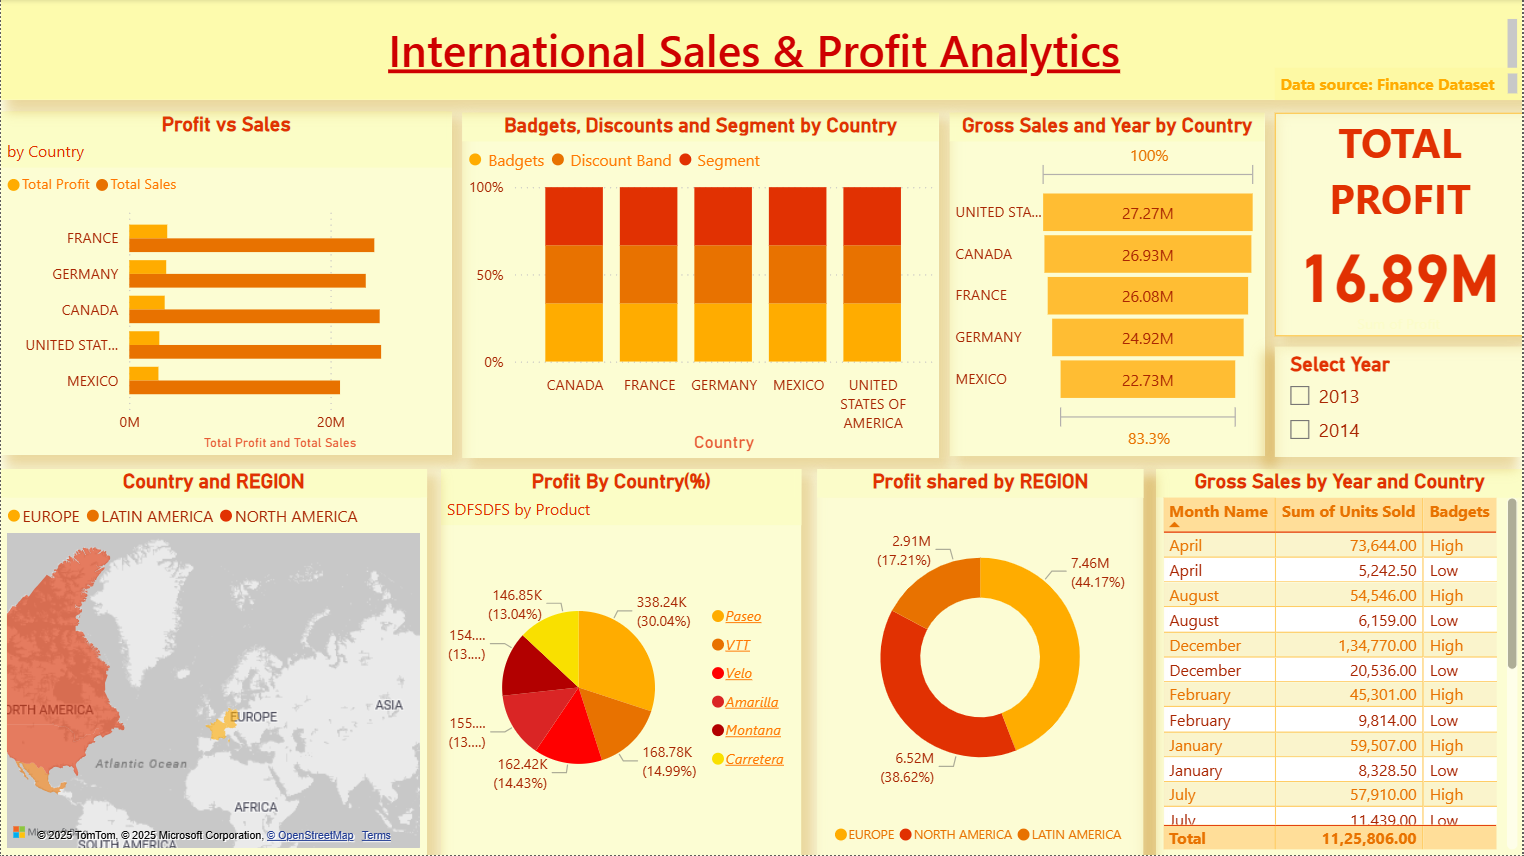

Layout of this report page (visuals, bound fields, positions):
{"tool":"powerbi","page":{"name":"Finance","canvas":[1280,720],"ordinal":0},"visuals":[{"type":"clusteredBarChart","title":"Profit vs Sales","fields":{"Category":["financials.Country"],"Y":["Sum(financials.Profit)","Sum(financials.Sales)"]},"box":[0,95,379,289],"z":0},{"type":"hundredPercentStackedColumnChart","title":"Badgets, Discounts and Segment by Country","fields":{"Category":["financials.Country"],"Y":["CountNonNull(financials.BADGETS)","CountNonNull(financials.Discount Band)","CountNonNull(financials.Segment)"]},"box":[388,96,401,290],"z":1000},{"type":"pieChart","title":"Profit By Country(%)","fields":{"Category":["financials.Product"],"Y":["Sum(financials.Units Sold)"]},"box":[370.1,395.3,302.8,324.9],"z":2000},{"type":"funnel","title":"Gross Sales and Year by Country","fields":{"Y":["Sum(financials.Gross Sales)"],"Category":["financials.Country"]},"box":[798,96,265,289],"z":3000},{"type":"tableEx","title":"Gross Sales by Year and Country","fields":{"Values":["financials.Month Name","Sum(financials.Units Sold)","financials.BADGETS"]},"box":[971.5,395.3,309.1,324.9],"z":4000},{"type":"donutChart","title":"Profit shared by REGION","fields":{"Y":["Sum(financials.Profit)"],"Category":["financials.REGION"]},"box":[686.6,395.3,274.4,324.9],"z":5000},{"type":"textbox","box":[0,0,1280,85],"z":6000},{"type":"filledMap","fields":{"Category":["financials.Country"],"Series":["financials.REGION"]},"box":[0,395,358,325],"z":7000},{"type":"card","title":"TOTAL PROFIT","fields":{"Values":["Sum(financials.Profit)"]},"box":[1071.4,95.7,209.2,188.2],"z":8000},{"type":"slicer","fields":{"Values":["financials.Year"]},"box":[1071.4,292.3,208.2,92.5],"z":9000},{"type":"textbox","box":[1071,58,209,27],"z":10000}]}

Visuals, with their boxes in screenshot pixels (x1, y1, x2, y2), scaled from the page's 1280x720 canvas onto the 1524x856 screenshot:
"Profit vs Sales" clusteredBarChart: [x1=0, y1=113, x2=451, y2=457]
"Badgets, Discounts and Segment by Country" hundredPercentStackedColumnChart: [x1=462, y1=114, x2=939, y2=459]
"Profit By Country(%)" pieChart: [x1=441, y1=470, x2=801, y2=855]
"Gross Sales and Year by Country" funnel: [x1=950, y1=114, x2=1266, y2=458]
"Gross Sales by Year and Country" tableEx: [x1=1157, y1=470, x2=1523, y2=855]
"Profit shared by REGION" donutChart: [x1=817, y1=470, x2=1144, y2=855]
textbox: [x1=0, y1=0, x2=1523, y2=101]
filledMap - financials.Country x financials.REGION: [x1=0, y1=470, x2=426, y2=855]
"TOTAL PROFIT" card: [x1=1276, y1=114, x2=1523, y2=338]
slicer - financials.Year: [x1=1276, y1=348, x2=1523, y2=457]
textbox: [x1=1275, y1=69, x2=1523, y2=101]
